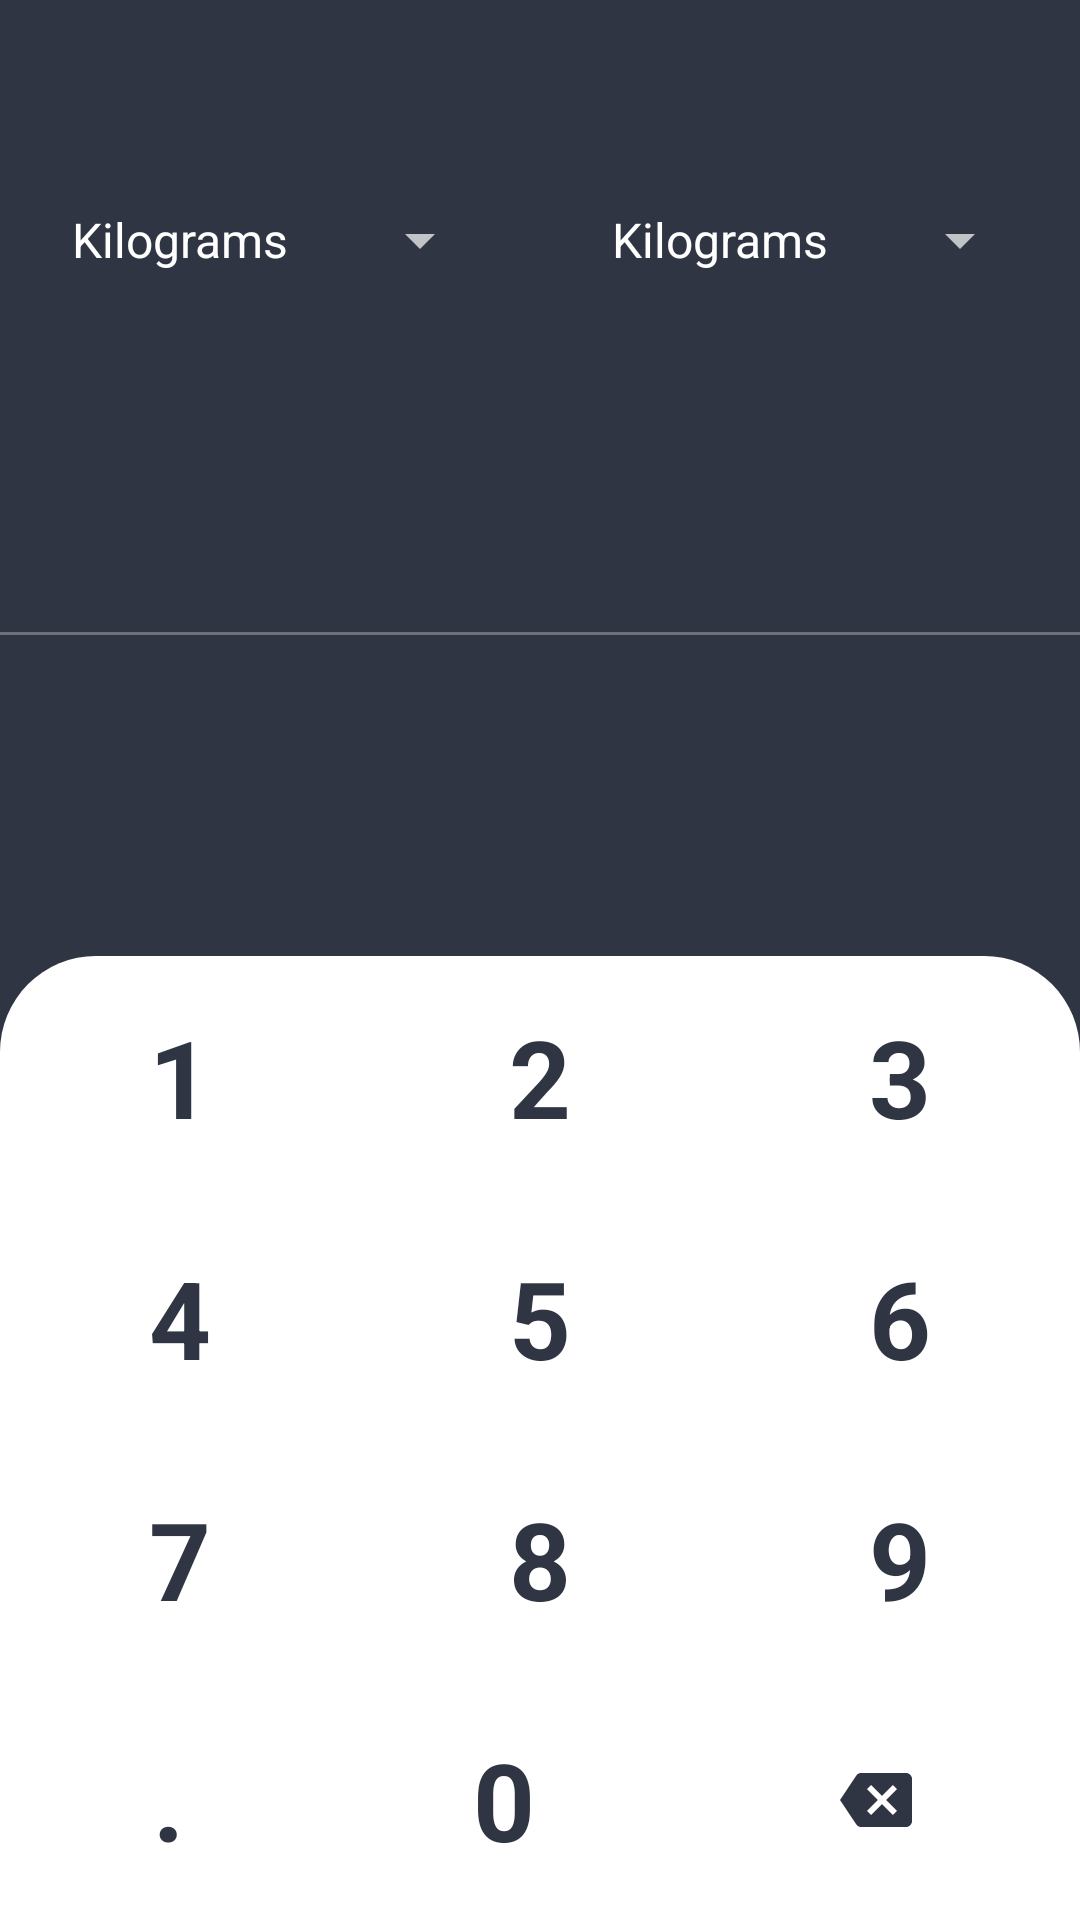

Point at icon controls on the screen. Image size 1080px x 1920px, points as [x,y].
backspace: [876,1800]
